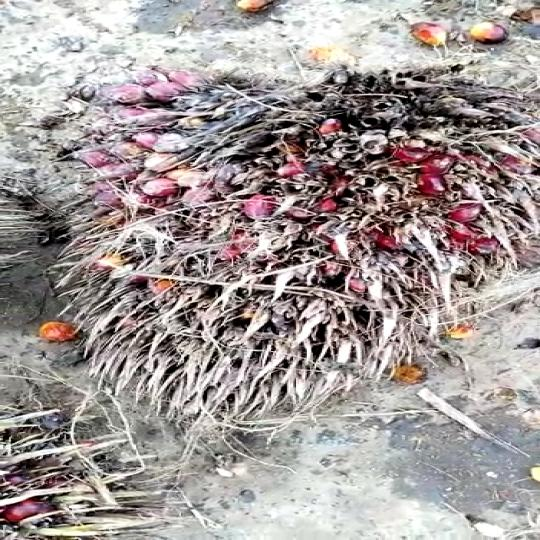terlalu masak: (0, 47, 540, 462)
